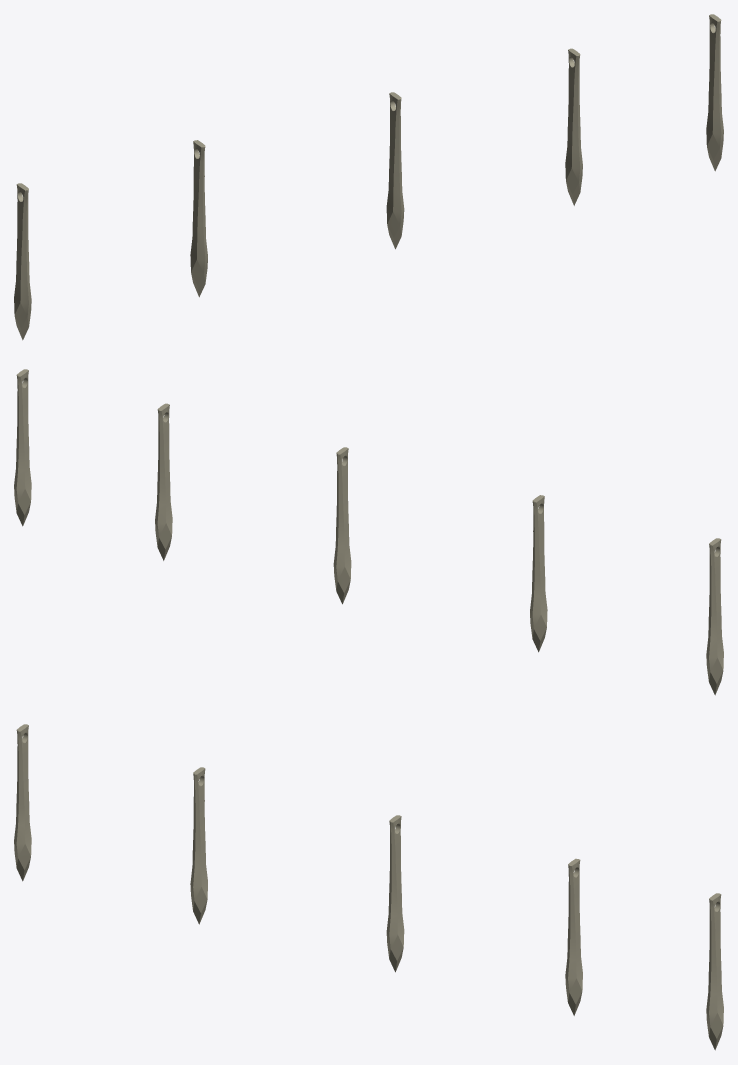
The model's file is M_com_shibei_002.fbx.
3 views of the same model, one above another, from view 1: azimuth 30°, elevation 25°; view 2: azimuth 150°, elevation 25°; view 3: azimuth 330°, elevation 25° (orthographic).
Parts seen in each view (by area): view 1: M_com_shibei_002; view 2: M_com_shibei_002; view 3: M_com_shibei_002.
Boxes of the visible parts, <box> form: M_com_shibei_002: <box>14,14,723,340</box>; M_com_shibei_002: <box>14,369,723,695</box>; M_com_shibei_002: <box>14,724,723,1050</box>.
Bounding box in the file's own units: 373627 × 77736 × 11319.
